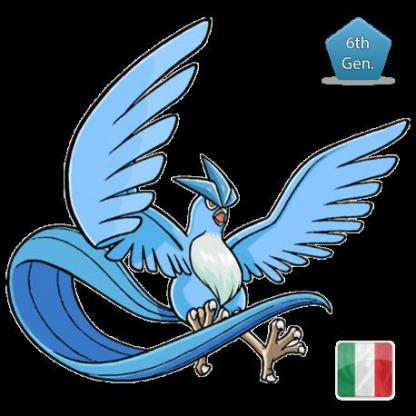Articuno: (1, 1, 416, 416), (29, 34, 416, 416)
